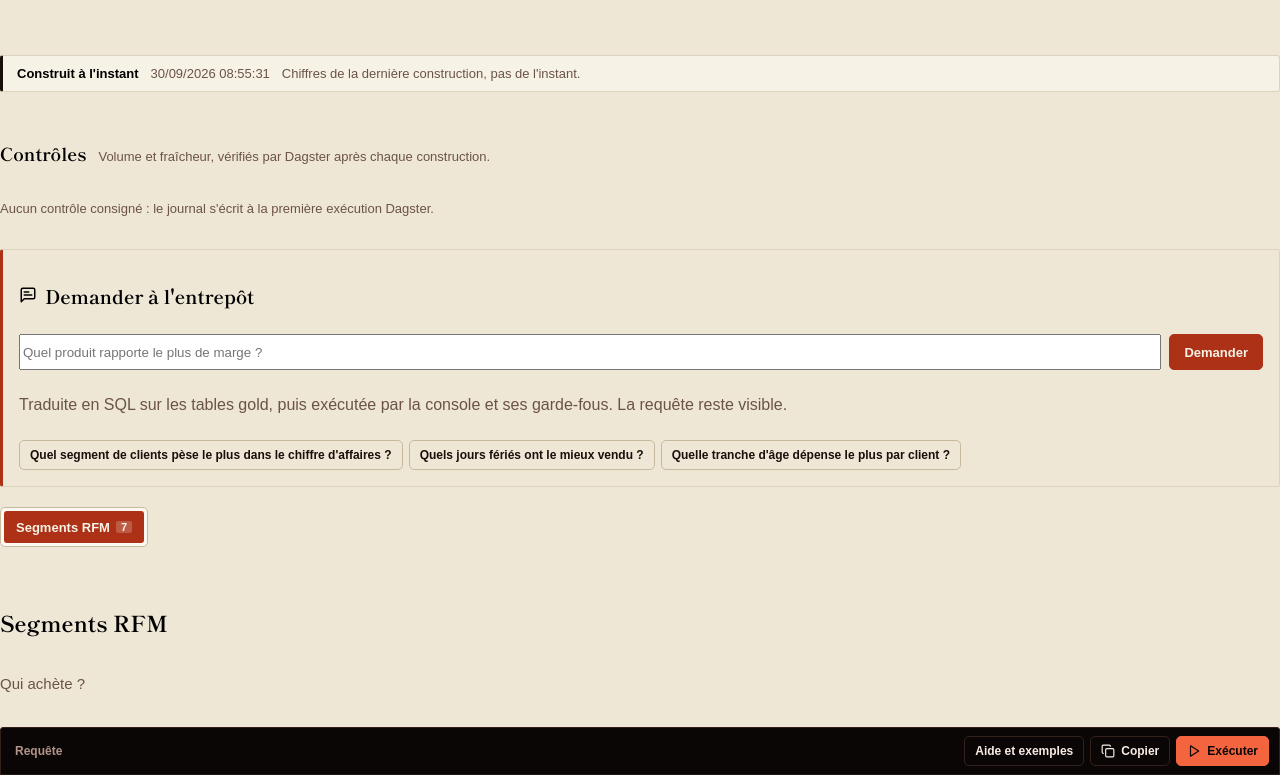
Test: Demander à l'entrepôt › reprend la requête dans la console
Type "Quel segment pèse le plus ?" into the field named "question sur l'activité" at (590, 352), box [19,334,1161,370]
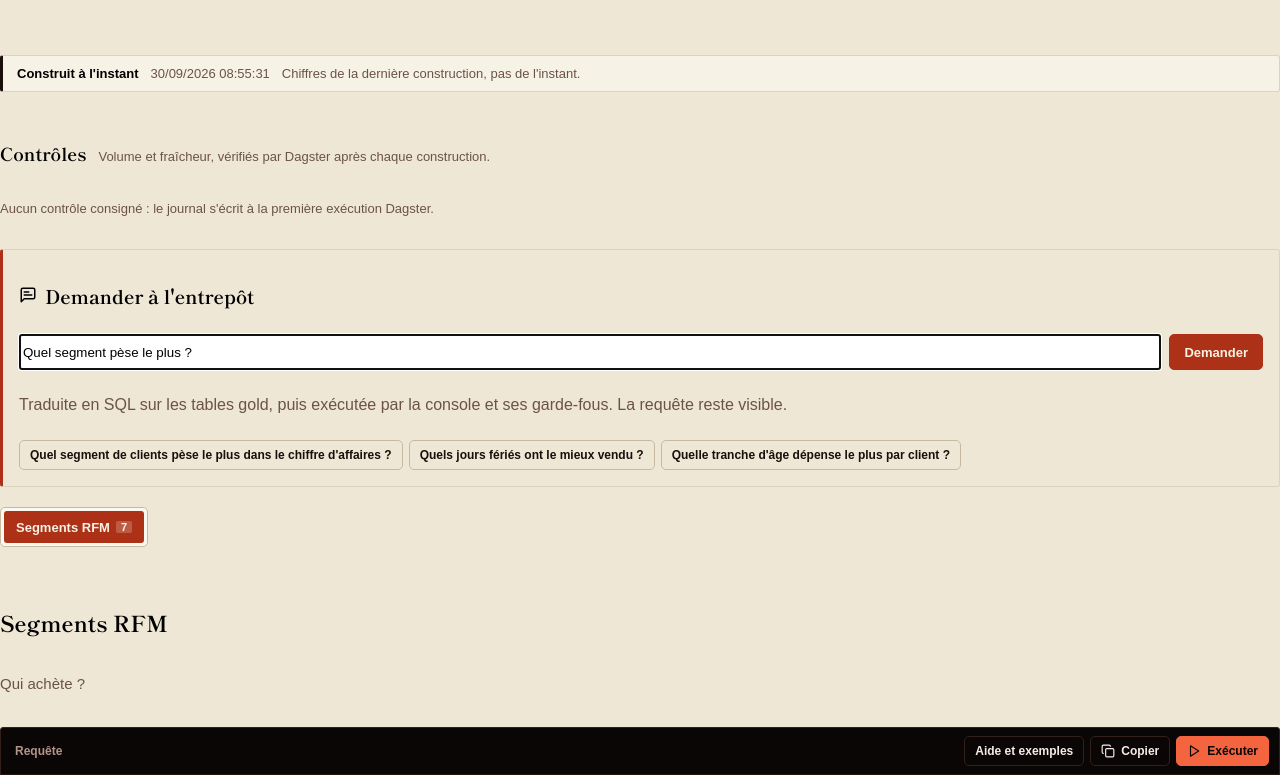
Click the button "Demander" at (1216, 352), box [1169,334,1263,370]
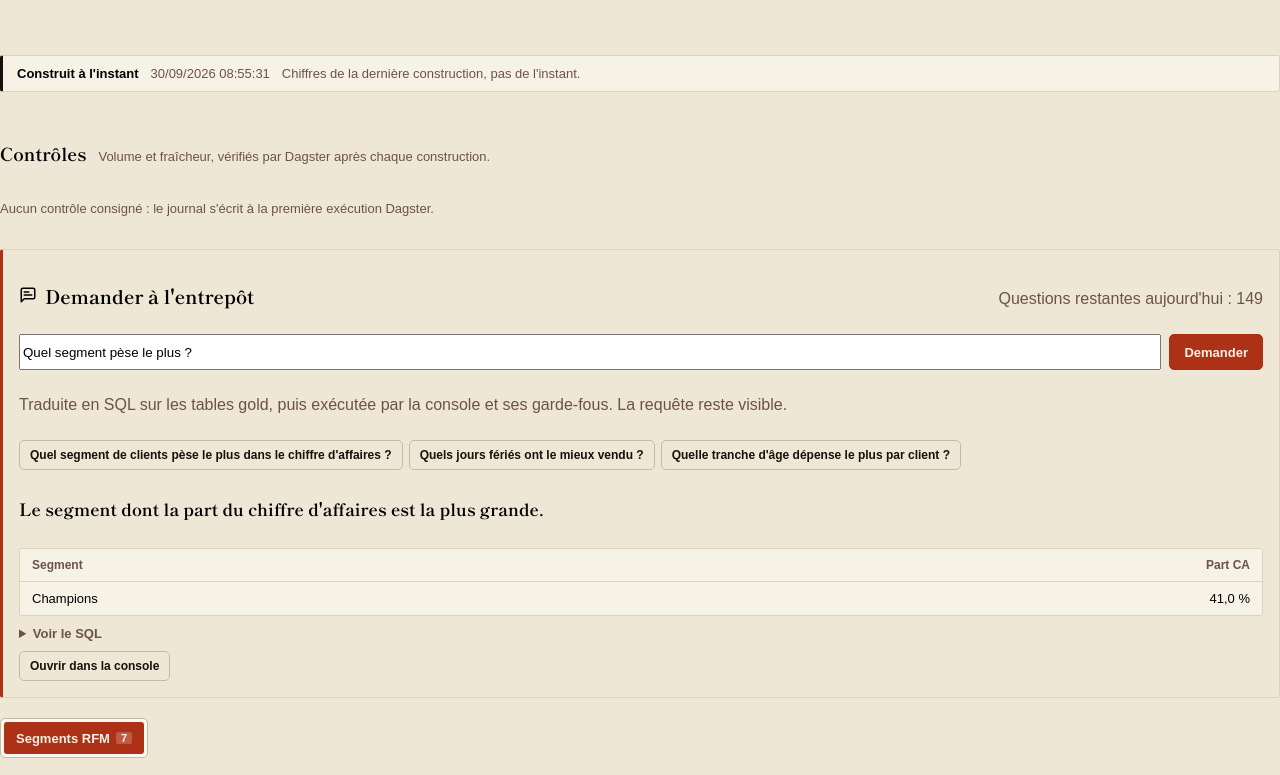
Click the button "Ouvrir dans la console" at (95, 666), box [19,651,170,681]
(page scrolled)
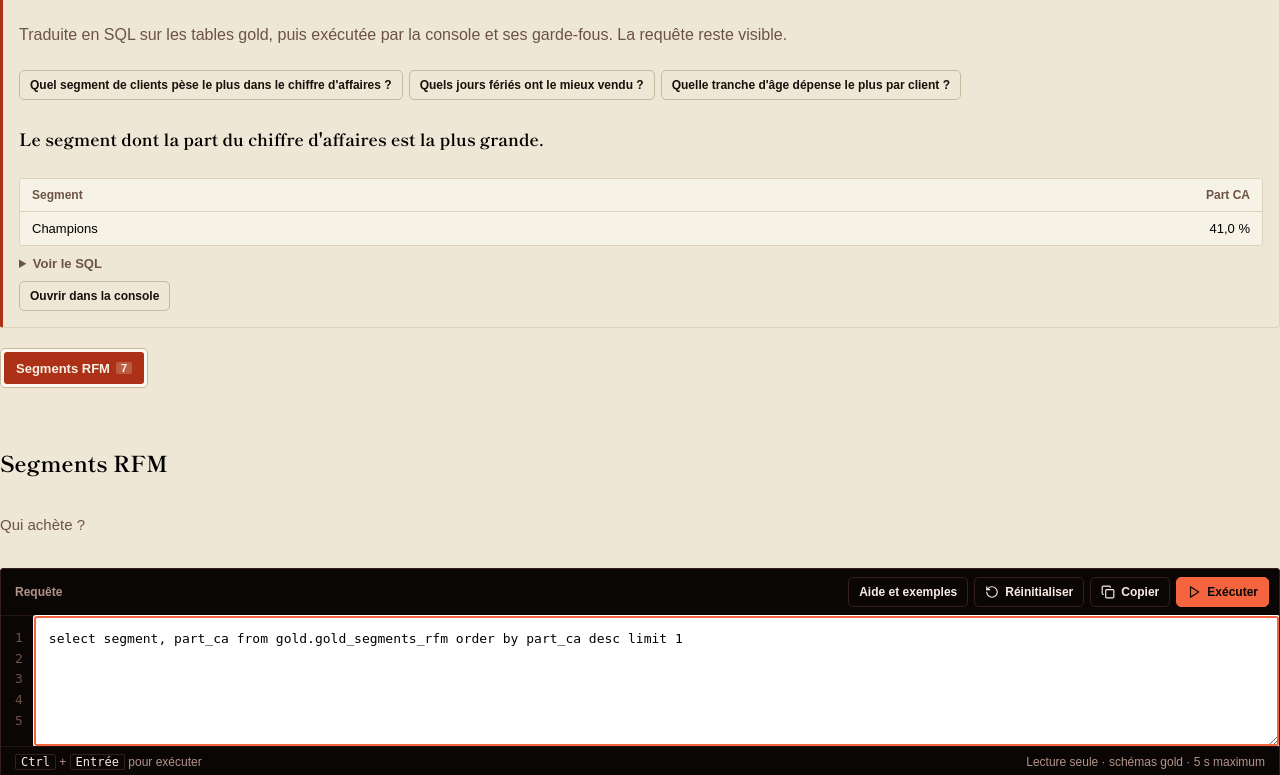
Now the text box named "Requête SQL" holds "select segment, part_ca from gold.gold_segments_rfm order by part_ca desc limit 1", box [34,616,1279,746]
